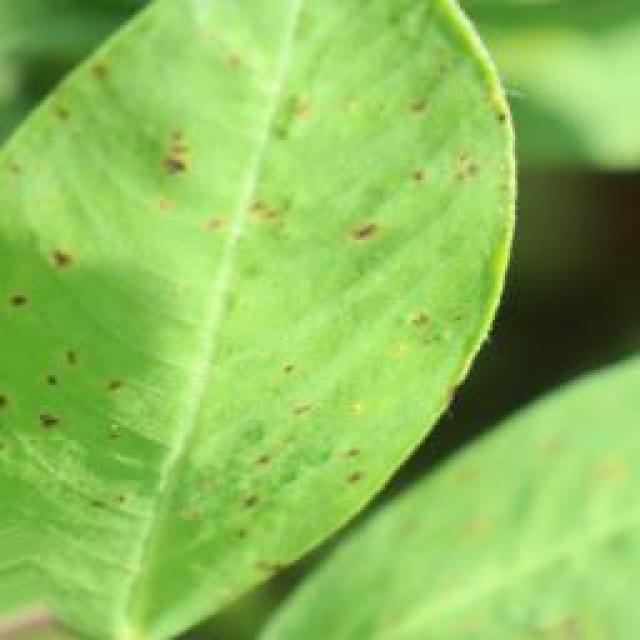Sigatoka: (206, 384, 362, 552), (28, 72, 212, 210), (0, 317, 136, 464), (376, 62, 487, 217), (0, 217, 108, 334), (219, 182, 318, 287), (332, 189, 418, 284), (376, 294, 462, 374)
